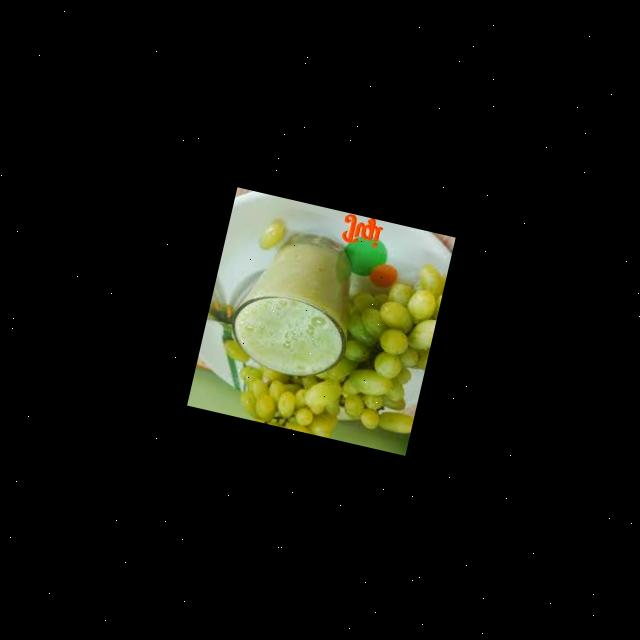grape: (310, 252, 444, 439), (242, 352, 339, 436)
